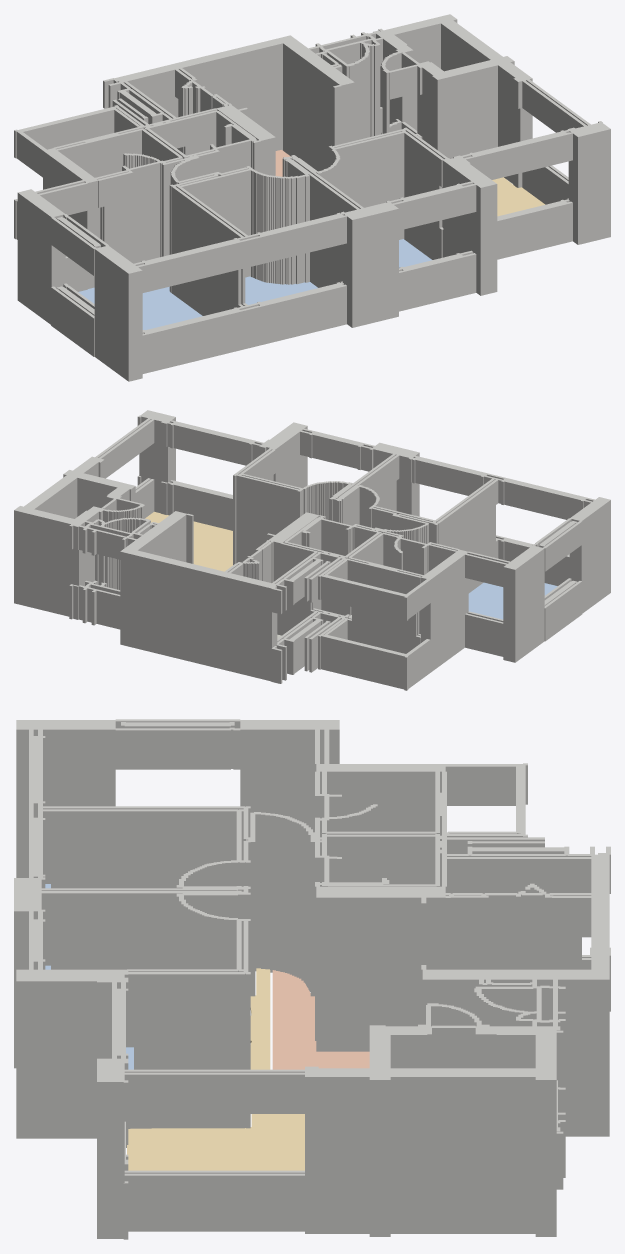
3 views of the same model, one above another, from view 1: azimuth 30°, elevation 25°; view 2: azimuth 150°, elevation 25°; view 3: azimuth 270°, elevation 25° (orthographic). The views are drawn at different scales.
Visible parts, largest first — view 1: walls, room:bedroom:5, room:bedroom:7, room:living:6, room:bedroom:8; view 2: walls, room:living:6, room:bedroom:5; view 3: walls, room:living:6, room:kitchen:3.
Part boxes in pixels (x1,y1,x2,y2): walls: (14,14,610,381); room:bedroom:5: (78,286,202,330); room:bedroom:7: (245,276,317,304); room:living:6: (492,177,544,216); room:bedroom:8: (399,239,432,268); walls: (14,410,610,690); room:living:6: (145,511,232,571); room:bedroom:5: (468,582,557,619); walls: (14,719,610,1239); room:living:6: (127,968,304,1170); room:kitchen:3: (272,970,369,1069).
Bounding box in the file's own units: 13.88 × 2.8 × 9.65.
